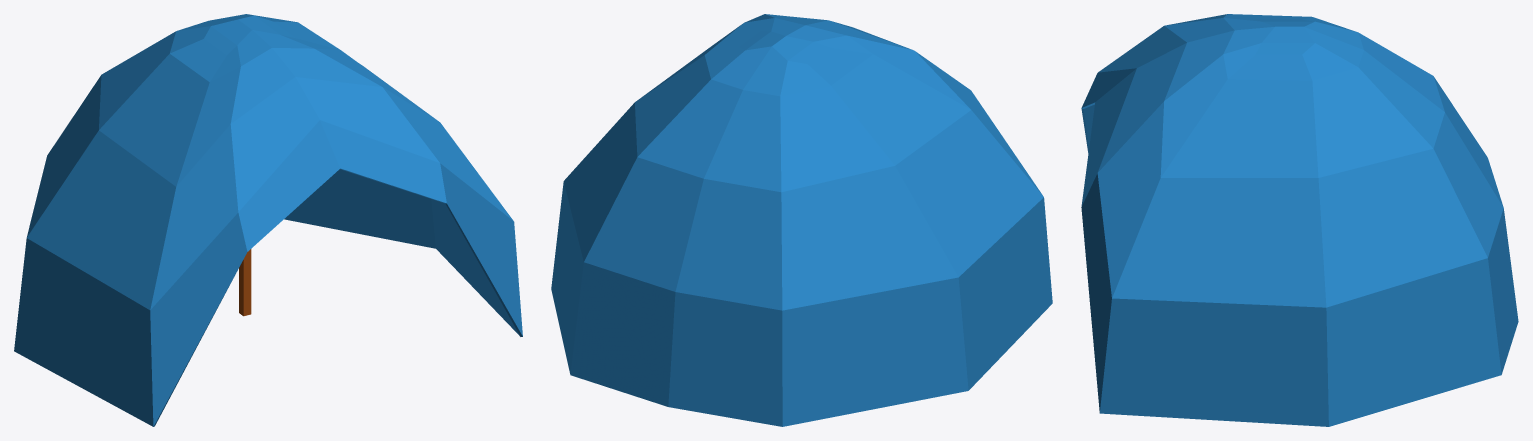
The model's file is Tent_01.fbx.
The picture shows the model from 3 angles, left to right: view 1: azimuth 30°, elevation 25°; view 2: azimuth 150°, elevation 25°; view 3: azimuth 270°, elevation 25°; orthographic projection. The views are drawn at different scales.
Parts seen in each view (by area): view 1: Tent_01; view 2: Tent_01; view 3: Tent_01.
Part boxes in pixels (x1=…): Tent_01: x1=14, y1=14, x2=522, y2=426; Tent_01: x1=551, y1=14, x2=1052, y2=426; Tent_01: x1=1081, y1=14, x2=1518, y2=426.
Size of the model in its own units: 299 by 195 by 262.
